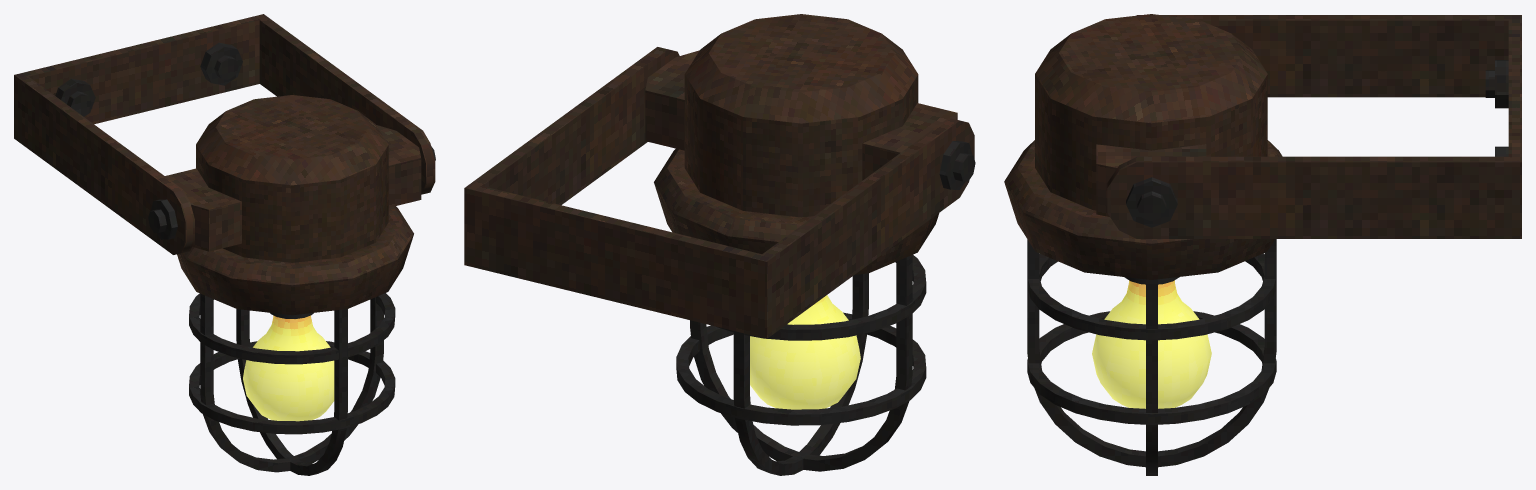
The model's file is lamp_mx_1_a_on.glb.
3 views of the same model, side by side, from view 1: azimuth 30°, elevation 25°; view 2: azimuth 150°, elevation 25°; view 3: azimuth 270°, elevation 25° (orthographic). The views are drawn at different scales.
Parts seen in each view (by area): view 1: lamp_mx_1_a_on; view 2: lamp_mx_1_a_on; view 3: lamp_mx_1_a_on.
Boxes of the visible parts, x1=… form: lamp_mx_1_a_on: x1=14, y1=14, x2=435, y2=475; lamp_mx_1_a_on: x1=464, y1=14, x2=975, y2=475; lamp_mx_1_a_on: x1=1004, y1=14, x2=1521, y2=475.
Bounding box in the file's own units: 0.2245 × 0.2657 × 0.3023.
Materials: 3 (3 with a texture image).
